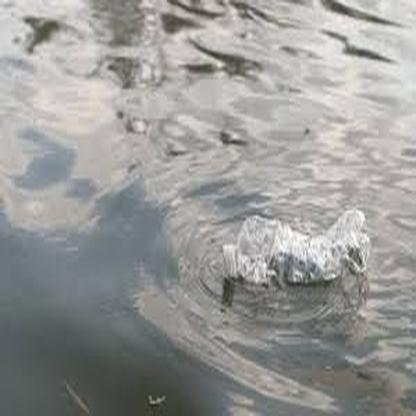plastic bottle: (219, 209, 369, 284)
